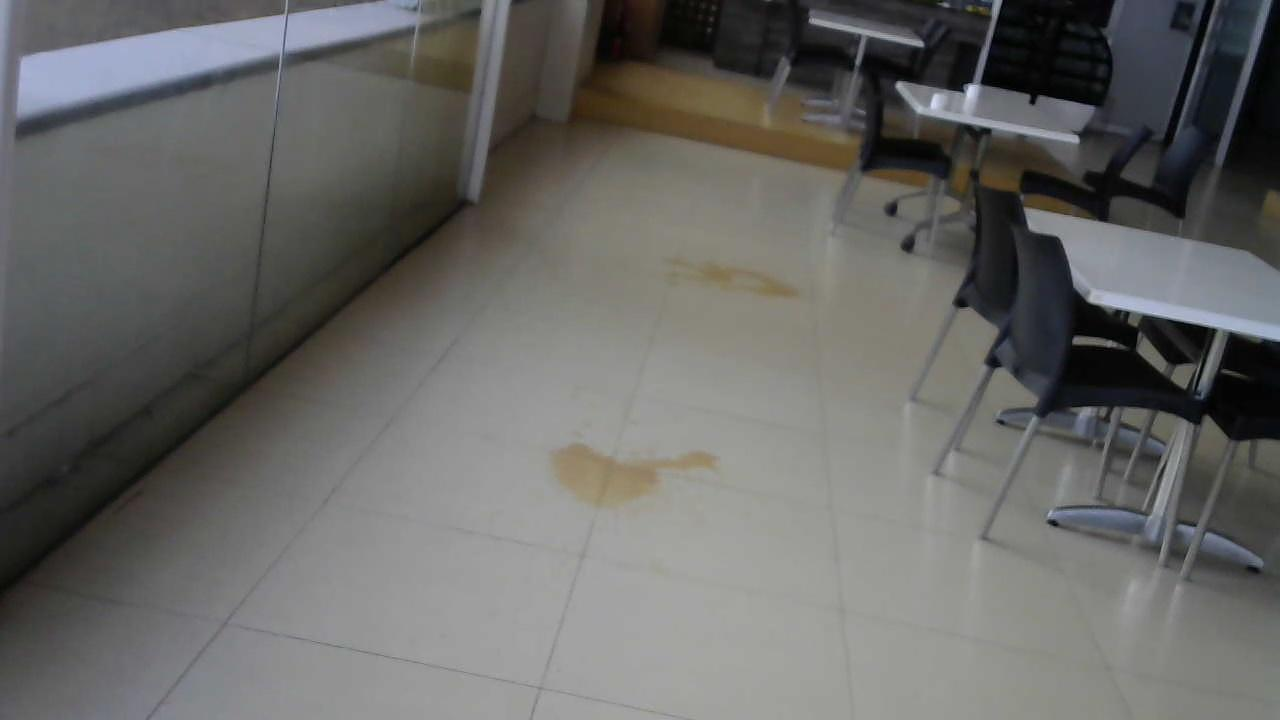dirty_floor: (524, 420, 735, 523)
